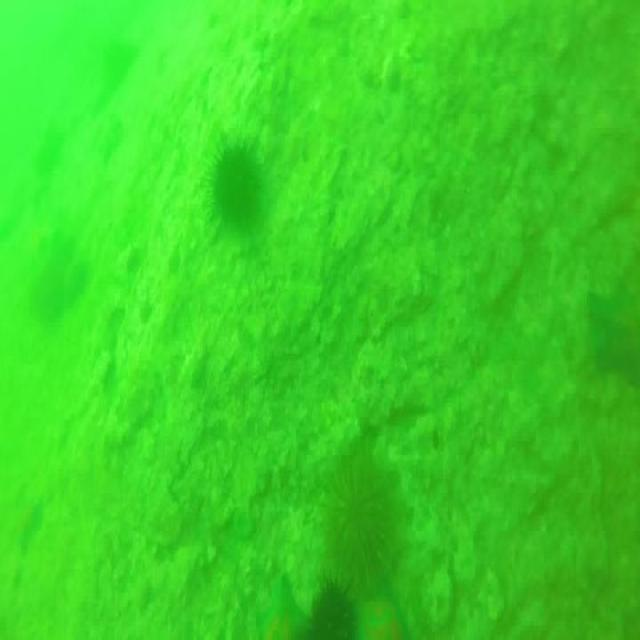echinus: (326, 441, 404, 588), (207, 126, 264, 234), (314, 572, 361, 640)
